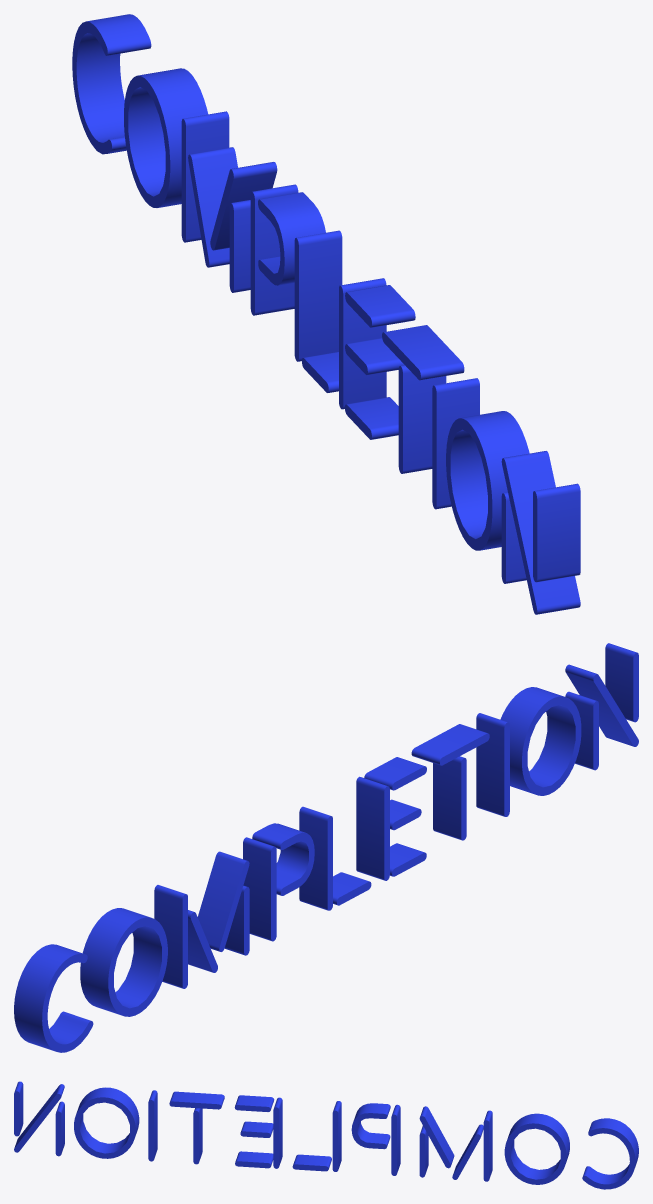
File: Completion_Sm_G.DAE
The picture shows the model from 3 angles, top to bottom: view 1: azimuth 30°, elevation 25°; view 2: azimuth 150°, elevation 25°; view 3: azimuth 270°, elevation 25°; orthographic projection. The views are drawn at different scales.
Visible parts, largest first — view 1: Object016; view 2: Object016; view 3: Object016.
Boxes of the visible parts, x1,y1,x2,y2 form: Object016: [72, 14, 580, 614]; Object016: [14, 643, 638, 1052]; Object016: [14, 1081, 638, 1189].
Bounding box in the file's own units: 0.8818 × 0.5367 × 4.85.
